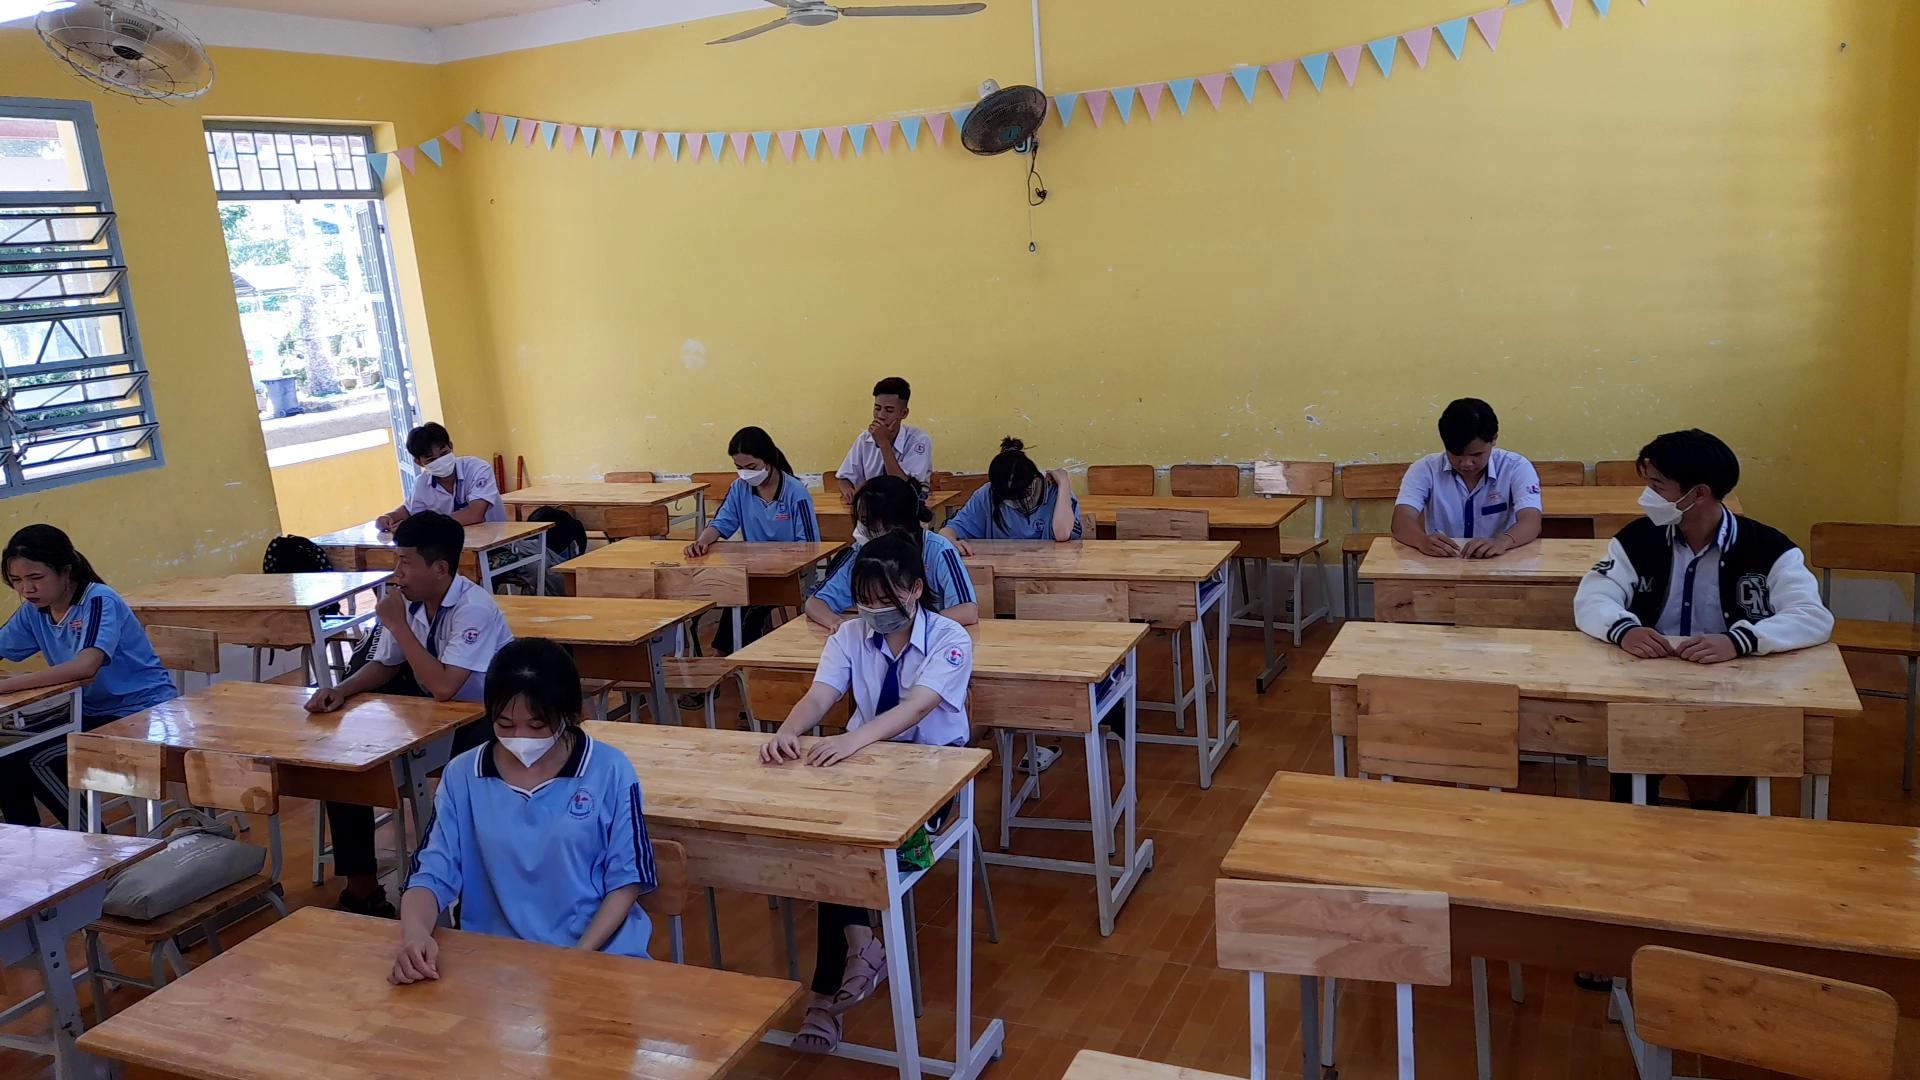Bend Over The Desk: (468, 622, 589, 777), (1419, 386, 1506, 491), (716, 411, 786, 501), (969, 430, 1039, 520)
Hand Under Table: (585, 764, 647, 972), (781, 472, 824, 547)
Look Around: (1625, 415, 1749, 541), (386, 501, 473, 605), (393, 407, 468, 495)
Normal: (746, 527, 973, 765)
Wave: (378, 591, 477, 705), (1040, 454, 1085, 542), (855, 415, 906, 476)
